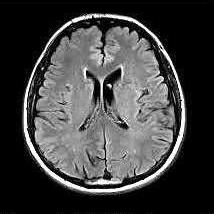Normal_Brain: (7, 9, 188, 214)
